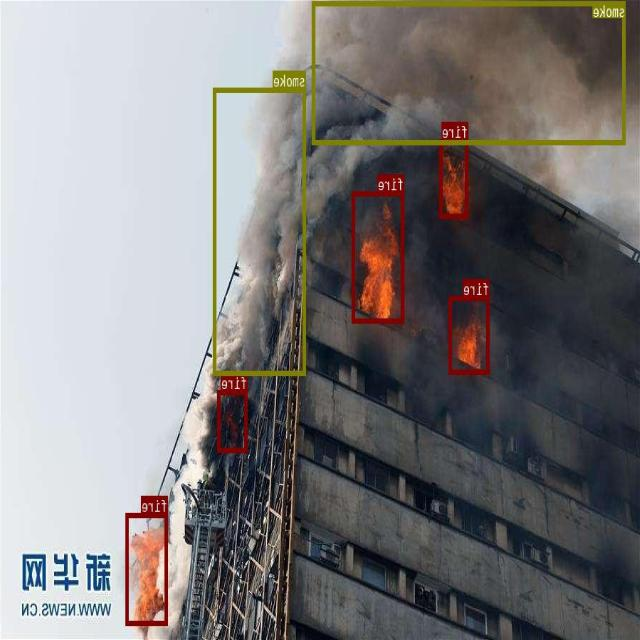fire: (352, 191, 404, 322), (127, 513, 168, 624), (450, 295, 490, 374), (440, 138, 469, 218), (218, 390, 248, 451)
smoke: (313, 1, 626, 143), (214, 88, 306, 374)
